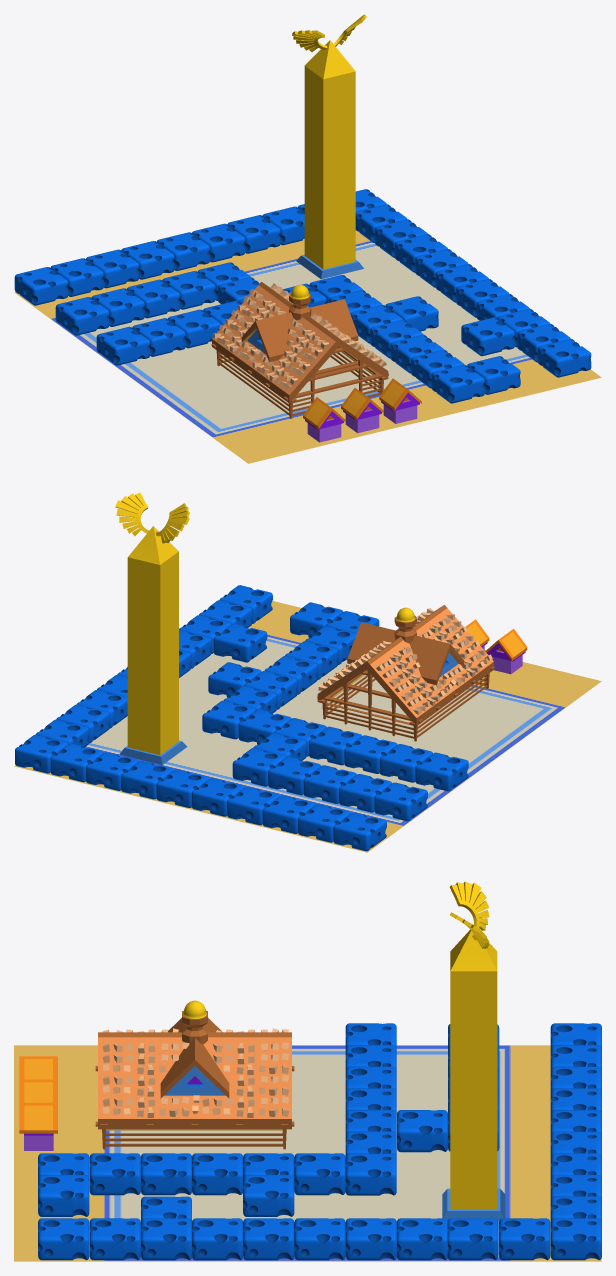
Rendered from CastleZone5.fbx.
The picture shows the model from 3 angles, top to bottom: view 1: azimuth 30°, elevation 25°; view 2: azimuth 150°, elevation 25°; view 3: azimuth 270°, elevation 25°; orthographic projection. The views are drawn at different scales.
Parts seen in each view (by area): view 1: Ground, Barn, monument_winged, Bushes2, Bushes3, Bushes1, Bushes5, GroundFront, SmallHouses, GroundBack; view 2: Ground, Barn, Bushes3, monument_winged, Bushes1, Bushes5, Bushes2, GroundFront, SmallHouses, GroundBack; view 3: Ground, Bushes2, Barn, Bushes5, monument_winged, Bushes1, GroundFront, Bushes3, GroundBack, SmallHouses.
Boxes of the visible parts, bbox=[...] form: Ground: bbox=[50, 240, 532, 437]; Barn: bbox=[211, 282, 388, 418]; monument_winged: bbox=[292, 14, 366, 279]; Bushes2: bbox=[355, 204, 591, 377]; Bushes3: bbox=[55, 262, 259, 365]; Bushes1: bbox=[14, 189, 386, 305]; Bushes5: bbox=[283, 275, 520, 403]; GroundFront: bbox=[213, 359, 601, 463]; SmallHouses: bbox=[303, 378, 421, 442]; GroundBack: bbox=[14, 230, 369, 318]; Ground: bbox=[84, 634, 565, 826]; Barn: bbox=[317, 605, 494, 741]; Bushes3: bbox=[232, 718, 468, 821]; monument_winged: bbox=[115, 492, 189, 764]; Bushes1: bbox=[15, 734, 386, 851]; Bushes5: bbox=[202, 602, 379, 744]; Bushes2: bbox=[35, 585, 272, 747]; GroundFront: bbox=[248, 601, 601, 707]; SmallHouses: bbox=[466, 619, 527, 674]; GroundBack: bbox=[14, 765, 402, 852]; Ground: bbox=[103, 1045, 511, 1261]; Bushes2: bbox=[38, 1196, 550, 1260]; Barn: bbox=[95, 1000, 294, 1149]; Bushes5: bbox=[38, 1131, 396, 1216]; monument_winged: bbox=[442, 881, 505, 1220]; Bushes1: bbox=[550, 1023, 601, 1260]; GroundFront: bbox=[14, 1045, 103, 1261]; Bushes3: bbox=[345, 1023, 499, 1152]; GroundBack: bbox=[512, 1045, 601, 1261]; SmallHouses: bbox=[19, 1056, 57, 1150].
Bounding box in the file's own units: 3638 × 2421 × 4175.
